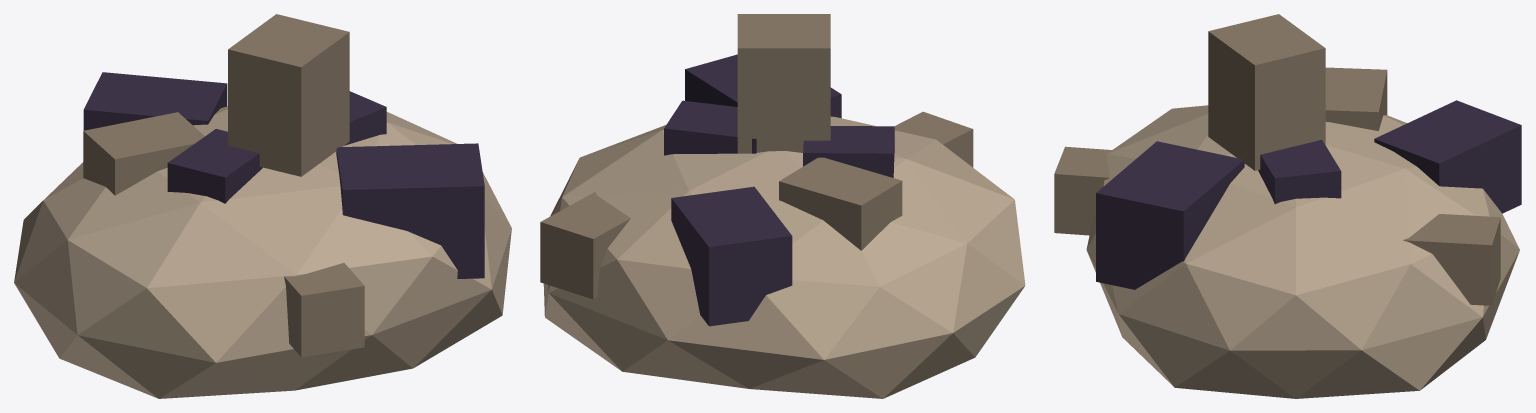
Rendered from rubble-pile.glb.
3 views of the same model, side by side, from view 1: azimuth 30°, elevation 25°; view 2: azimuth 150°, elevation 25°; view 3: azimuth 270°, elevation 25° (orthographic). The views are drawn at different scales.
Visible parts, largest first — view 1: rubble-pile; view 2: rubble-pile; view 3: rubble-pile.
Part boxes in pixels (x1,y1,x2,y2): rubble-pile: [14, 14, 511, 398]; rubble-pile: [540, 14, 1025, 398]; rubble-pile: [1054, 14, 1521, 398].
Size of the model in its own units: 0.8314 by 0.52 by 0.8023.
